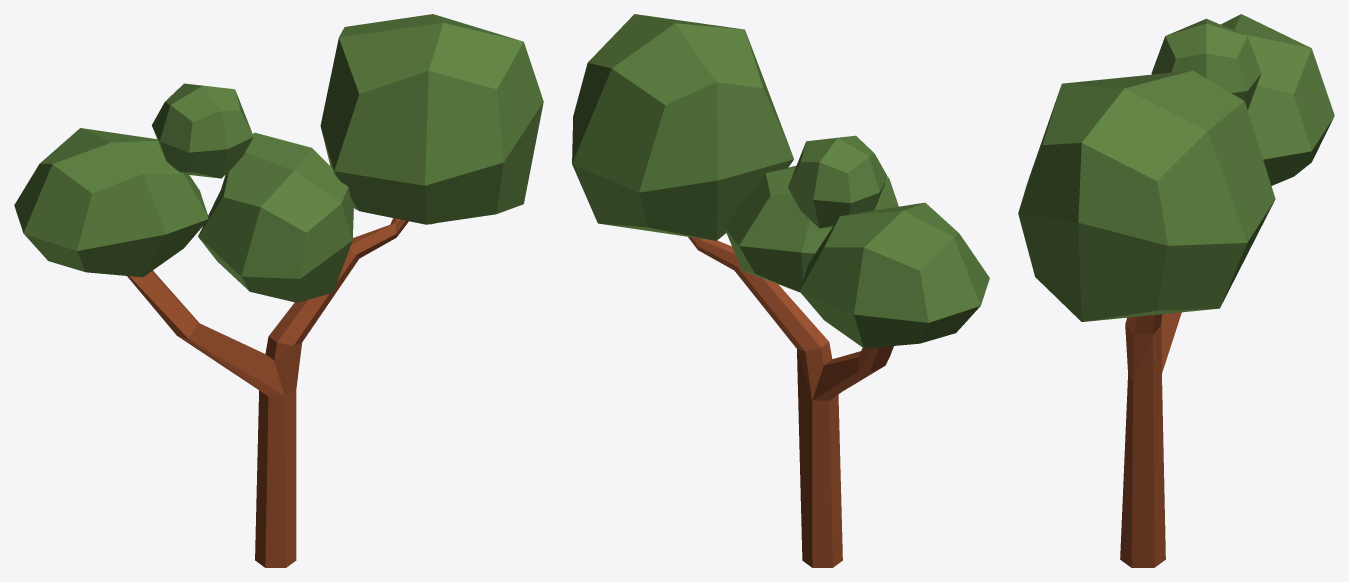
Rendered from Tree5.fbx.
3 renders of one model, left to right at view 1: azimuth 30°, elevation 25°; view 2: azimuth 150°, elevation 25°; view 3: azimuth 270°, elevation 25°, orthographic. The views are drawn at different scales.
Parts seen in each view (by area): view 1: Цилиндр; view 2: Цилиндр; view 3: Цилиндр.
Part boxes in pixels (x1,y1,x2,y2): Цилиндр: [14, 14, 543, 567]; Цилиндр: [572, 14, 989, 567]; Цилиндр: [1018, 14, 1334, 567].
Size of the model in its own units: 207 by 222 by 114.
